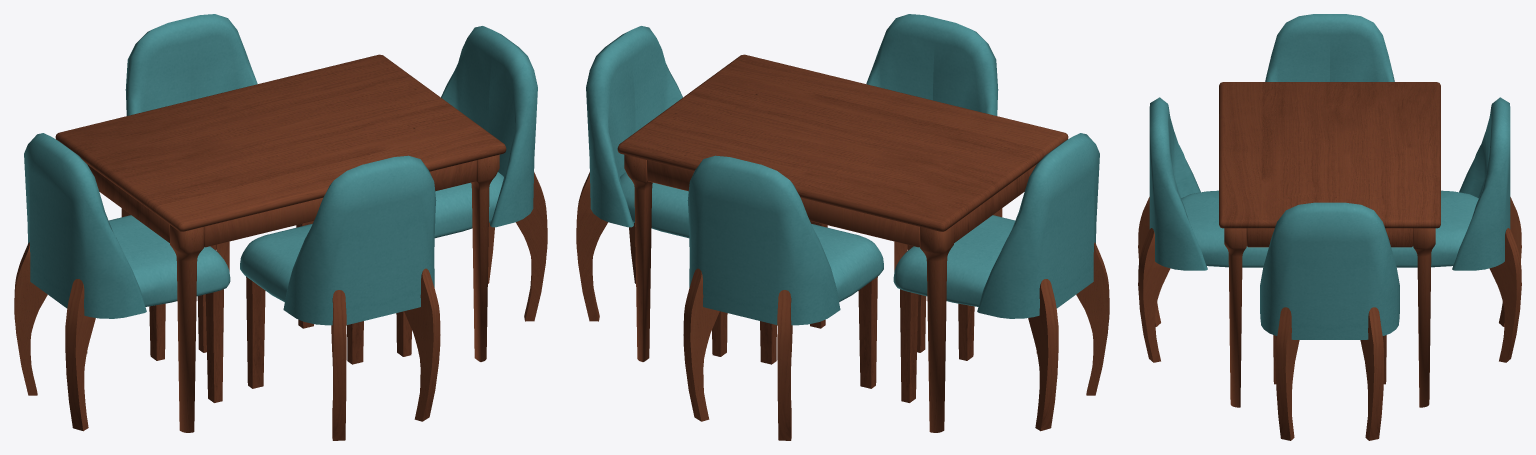
3 views of the same model, side by side, from view 1: azimuth 30°, elevation 25°; view 2: azimuth 150°, elevation 25°; view 3: azimuth 270°, elevation 25° (orthographic). The views are drawn at different scales.
Parts seen in each view (by area): view 1: Cube.006 (×4), 01 destk, 02 back legs (×3), Cube.007 (×3), 04 leg, 01 front leg (×4), 02 unders, 03 unders; view 2: Cube.006 (×4), 01 destk, 02 back legs (×3), Cube.007 (×3), 04 leg, 01 front leg (×4), 02 unders, 03 unders; view 3: Cube.006 (×4), 01 destk, 02 back legs (×3), Cube.007 (×2), 04 leg, 03 unders.
Boxes of the visible parts, left/top/right/bottom form: Cube.006 (×4): left=24, top=14, right=537, bottom=325; 01 destk: left=55, top=54, right=506, bottom=231; 02 back legs (×3): left=14, top=172, right=547, bottom=440; Cube.007 (×3): left=109, top=172, right=503, bottom=306; 04 leg: left=87, top=154, right=499, bottom=432; 01 front leg (×4): left=149, top=221, right=411, bottom=402; 02 unders: left=204, top=160, right=476, bottom=247; 03 unders: left=87, top=164, right=169, bottom=242; Cube.006 (×4): left=586, top=14, right=1099, bottom=325; 01 destk: left=617, top=54, right=1068, bottom=231; 02 back legs (×3): left=576, top=172, right=1109, bottom=440; Cube.007 (×3): left=620, top=172, right=1014, bottom=306; 04 leg: left=624, top=154, right=1036, bottom=432; 01 front leg (×4): left=712, top=221, right=974, bottom=402; 02 unders: left=647, top=160, right=919, bottom=247; 03 unders: left=954, top=164, right=1036, bottom=242; Cube.006 (×4): left=1149, top=14, right=1510, bottom=339; 01 destk: left=1219, top=82, right=1440, bottom=228; 02 back legs (×3): left=1138, top=197, right=1521, bottom=440; Cube.007 (×2): left=1181, top=190, right=1478, bottom=267; 04 leg: left=1224, top=228, right=1435, bottom=407; 03 unders: left=1246, top=228, right=1413, bottom=247.
Size of the model in its own units: 1.76 by 0.9288 by 1.38.
2 materials, 2 textured.
